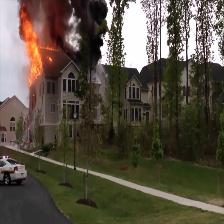fire: (15, 7, 64, 93)
